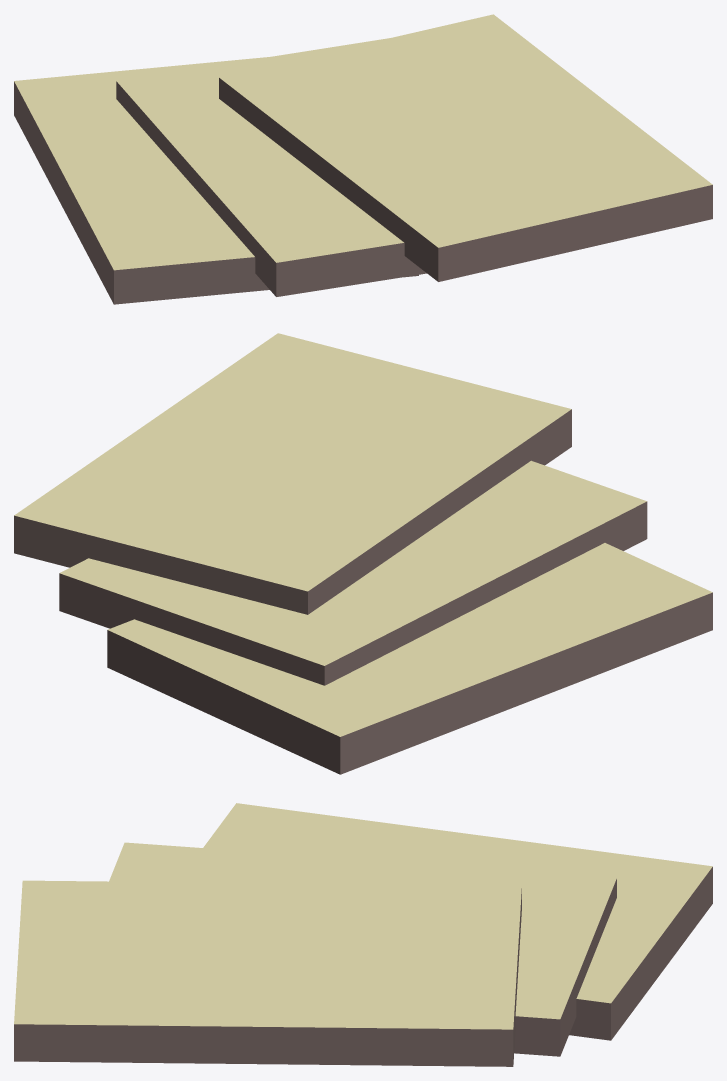
File: baralho_cartas.fbx
3 views of the same model, one above another, from view 1: azimuth 30°, elevation 25°; view 2: azimuth 150°, elevation 25°; view 3: azimuth 270°, elevation 25° (orthographic). The views are drawn at different scales.
Visible parts, largest first — view 1: baralho_cartas; view 2: baralho_cartas; view 3: baralho_cartas.
Boxes of the visible parts, left/top/right/bottom form: baralho_cartas: left=14, top=14, right=712, bottom=304; baralho_cartas: left=14, top=333, right=712, bottom=774; baralho_cartas: left=14, top=803, right=712, bottom=1066.
Size of the model in its own units: 12.5 by 1.73 by 13.72.
